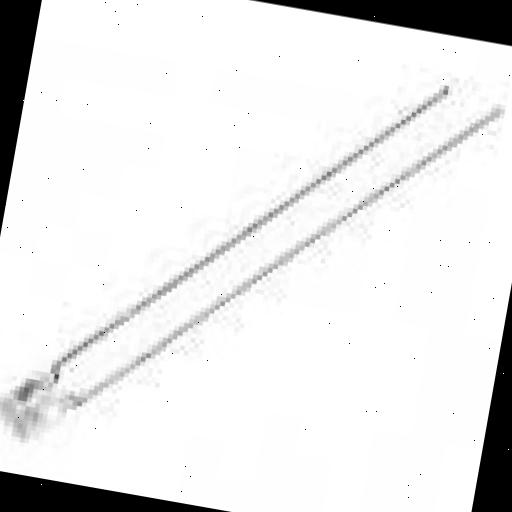LED: (0, 255, 226, 490)
